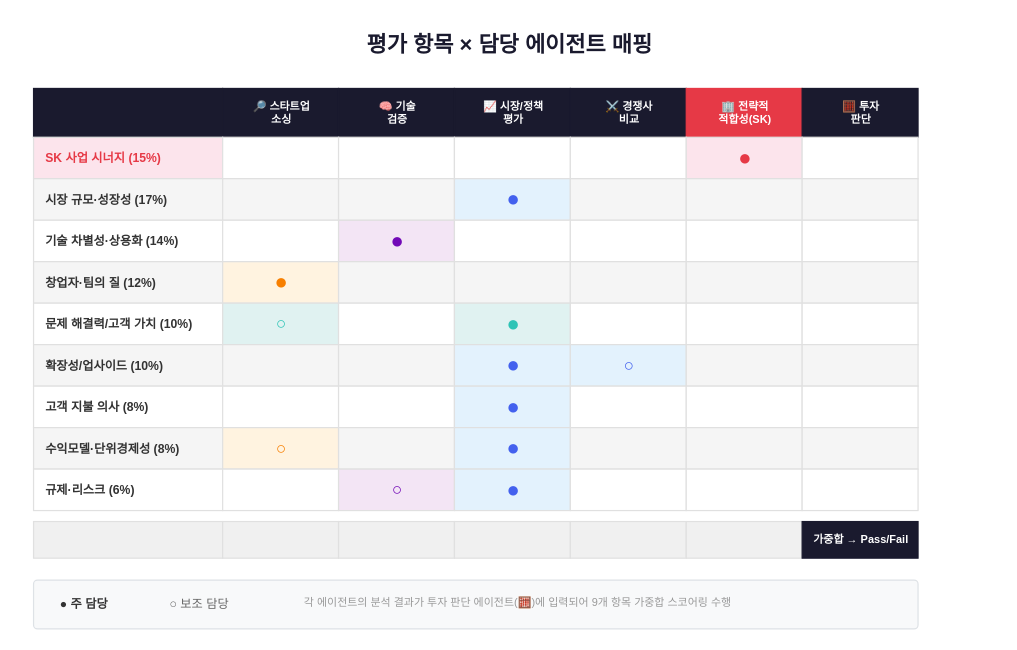
The diagram is 1017 pixels wide and 650 high, and some of its shapes have lost their labels. The shapes that lost their labels are listed below. From the top down, each one's centre as x and y in pixels, then its label:
pixel 127 112: 평가 항목 \ 에이전트
pixel 127 539: → 최종 스코어링
